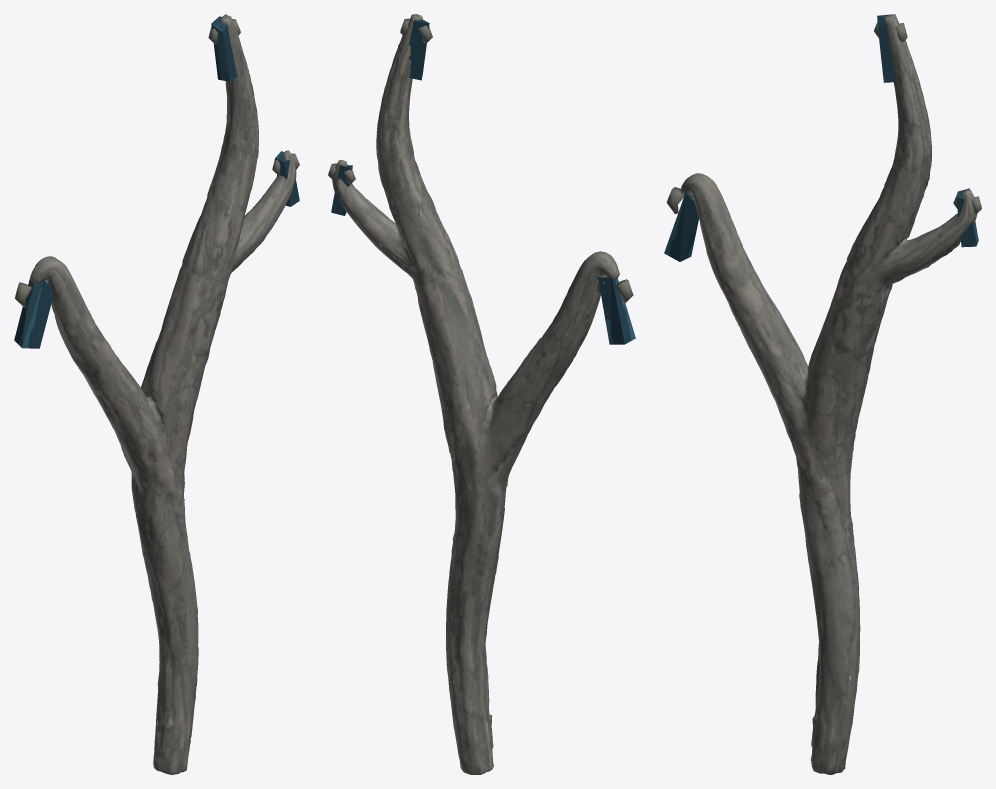
The model's file is winterbranch.glb.
3 renders of one model, left to right at view 1: azimuth 30°, elevation 25°; view 2: azimuth 150°, elevation 25°; view 3: azimuth 330°, elevation 25°, orthographic. The views are drawn at different scales.
Visible parts, largest first — view 1: winterbranch_Baked.001 export; view 2: winterbranch_Baked.001 export; view 3: winterbranch_Baked.001 export.
Boxes of the visible parts, left/top/right/bottom form: winterbranch_Baked.001 export: left=14, top=14, right=299, bottom=774; winterbranch_Baked.001 export: left=328, top=14, right=635, bottom=774; winterbranch_Baked.001 export: left=664, top=14, right=981, bottom=774.
Size of the model in its own units: 0.4241 by 1.02 by 0.0769.
Materials: 1 (1 with a texture image).
